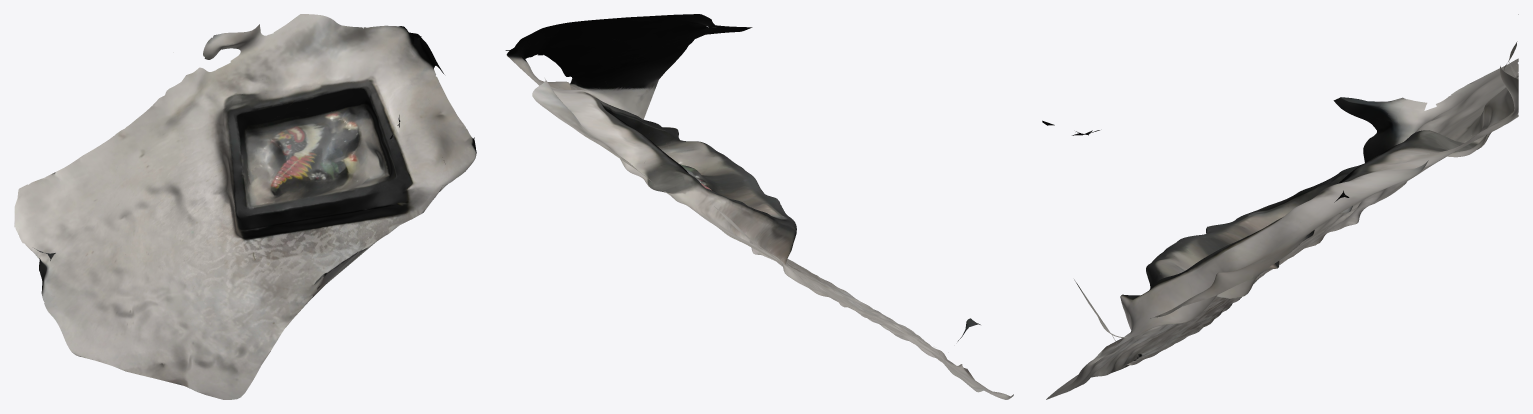
3 views of the same model, side by side, from view 1: azimuth 30°, elevation 25°; view 2: azimuth 150°, elevation 25°; view 3: azimuth 270°, elevation 25° (orthographic). The views are drawn at different scales.
Size of the model in its own units: 1.3 by 0.8129 by 0.7703.
1 material, 1 textured.
